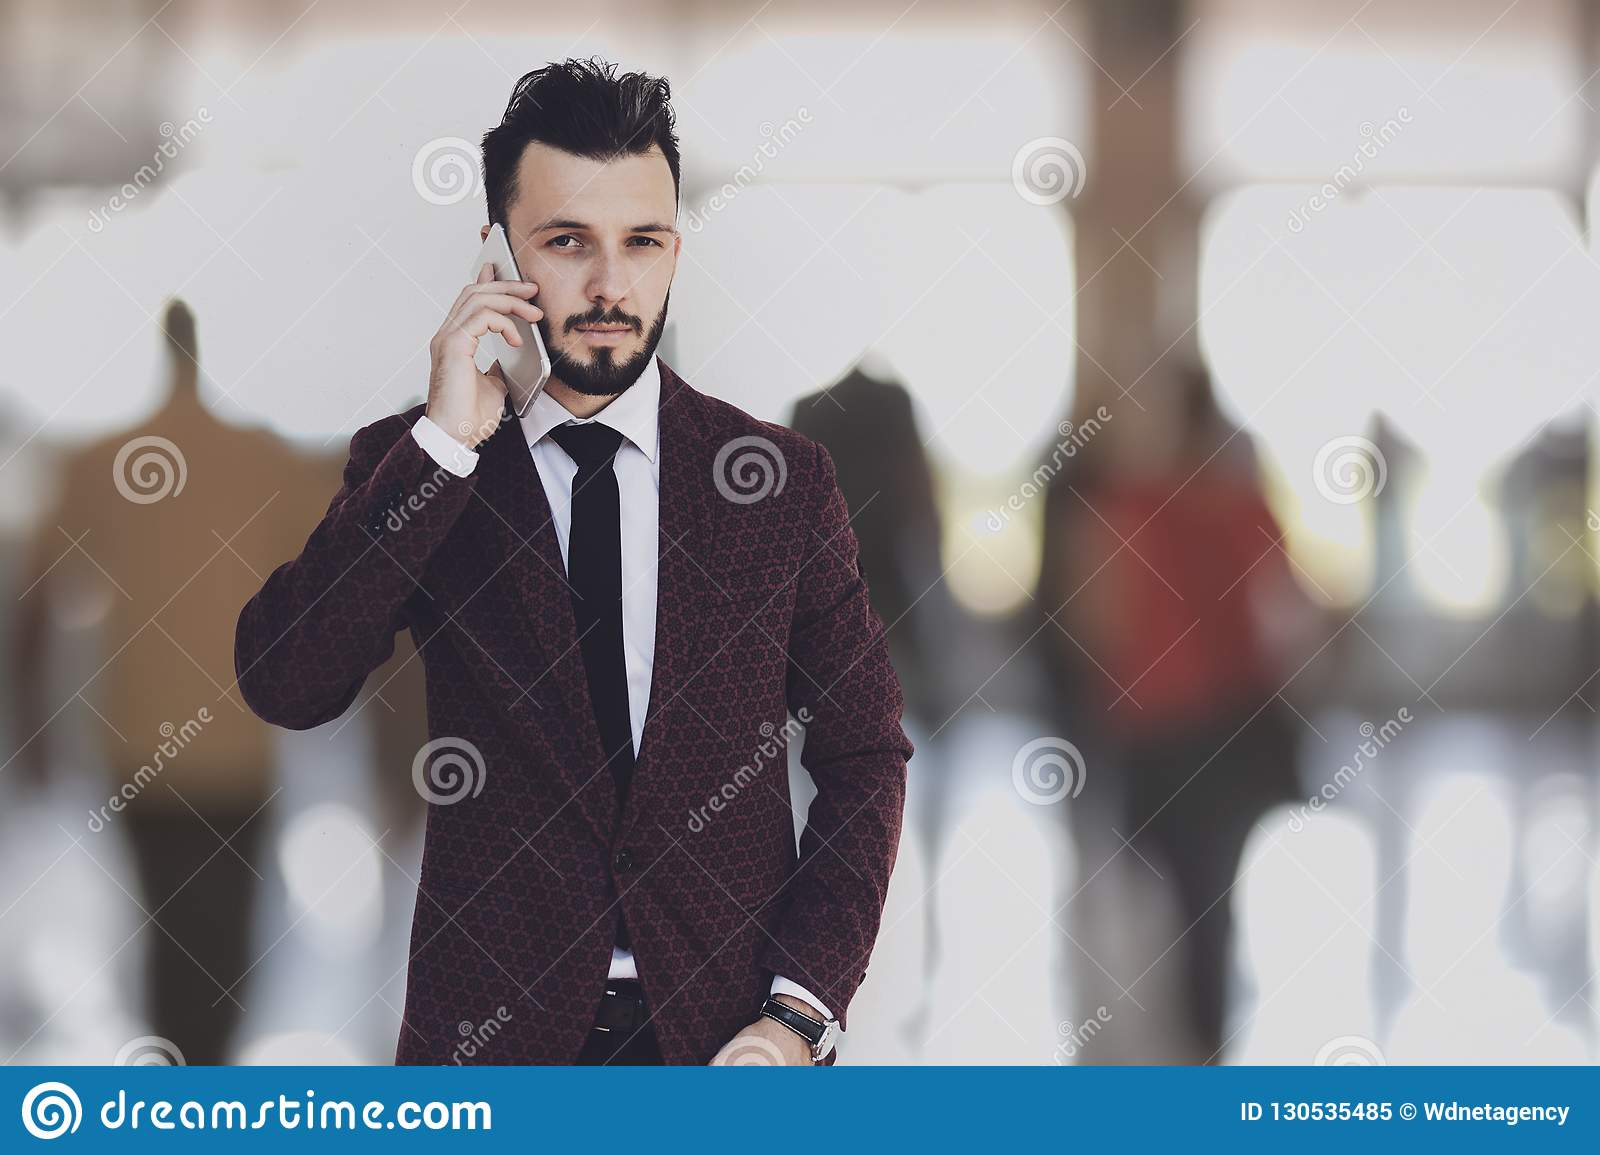phone: (471, 224, 561, 423)
talk: (425, 192, 684, 450)
